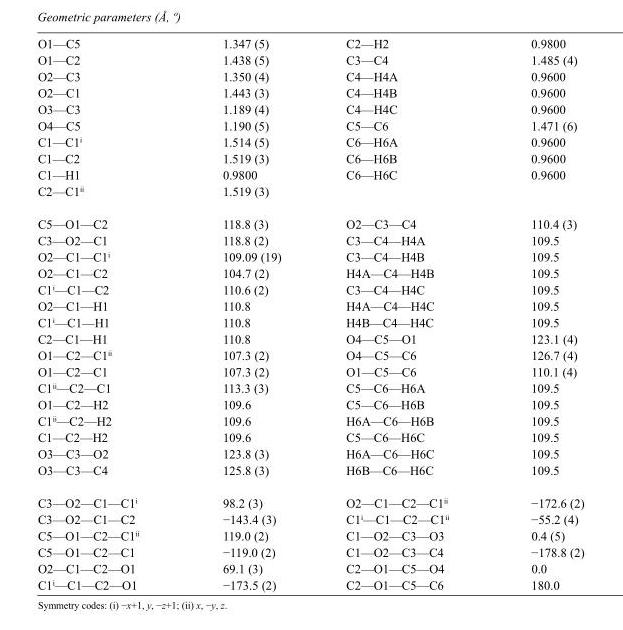table: (36, 36, 583, 591)
table column: (312, 36, 489, 591), (36, 36, 180, 591), (180, 36, 312, 591), (489, 36, 583, 591)
table row: (36, 182, 583, 207), (36, 207, 583, 232), (36, 461, 583, 486), (36, 486, 583, 511), (36, 51, 583, 68), (36, 100, 583, 117), (36, 133, 583, 150), (36, 264, 583, 281), (36, 297, 583, 314), (36, 346, 583, 363), (36, 379, 583, 396), (36, 428, 583, 445), (36, 543, 583, 560), (36, 68, 583, 84), (36, 84, 583, 100), (36, 117, 583, 133), (36, 150, 583, 166), (36, 166, 583, 182), (36, 232, 583, 248), (36, 248, 583, 264), (36, 281, 583, 297), (36, 314, 583, 330), (36, 330, 583, 346), (36, 363, 583, 379), (36, 396, 583, 412), (36, 412, 583, 428), (36, 445, 583, 461), (36, 511, 583, 527), (36, 527, 583, 543), (36, 560, 583, 576), (36, 36, 583, 51), (36, 576, 583, 591)
